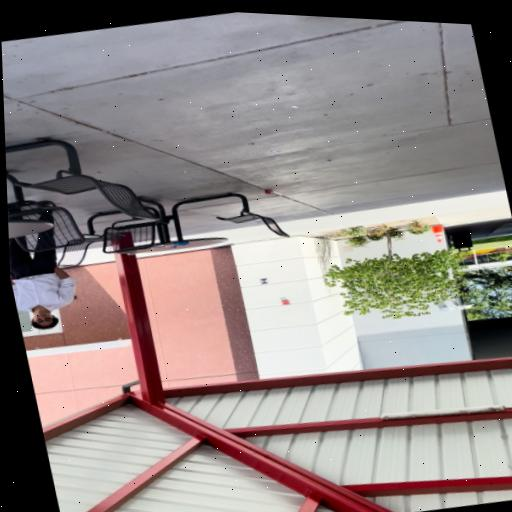target2: (258, 277, 269, 284)
